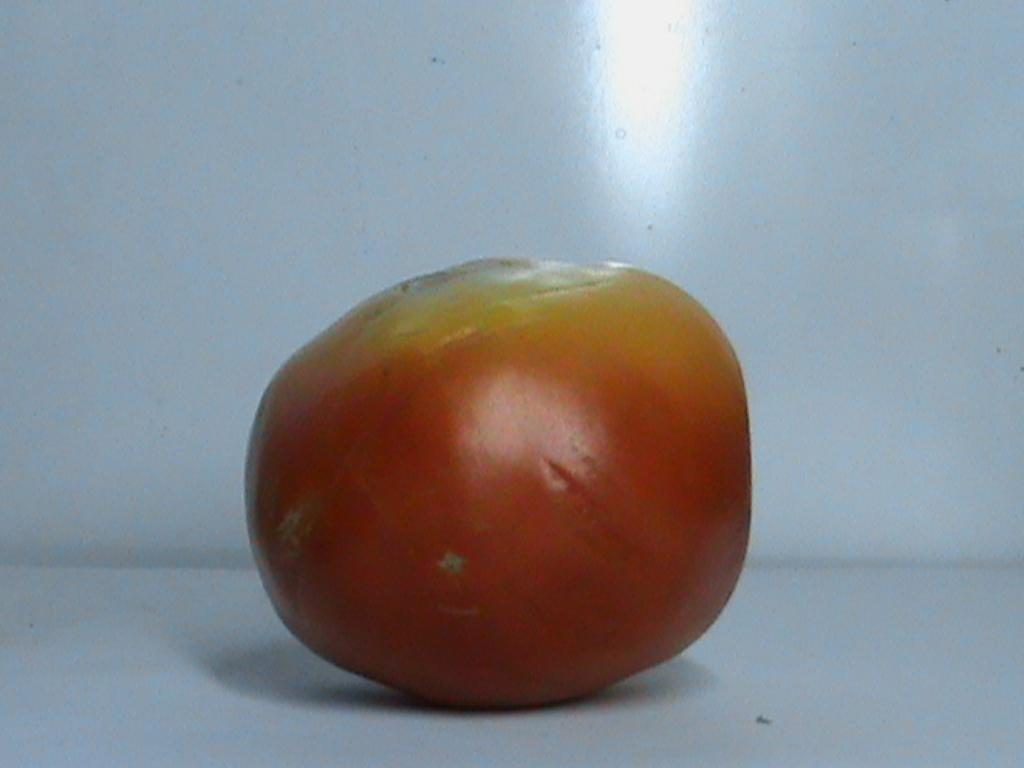bruise_discoloration: (355, 264, 622, 343)
surface_damage: (274, 502, 318, 552), (438, 550, 464, 573)
tomato: (246, 262, 750, 704)
